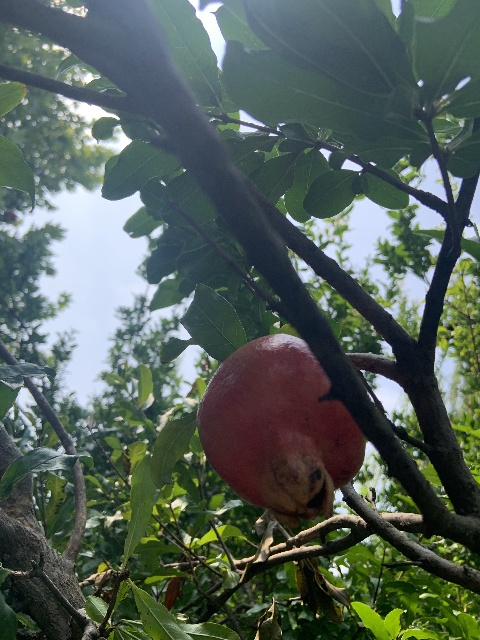ripe: (196, 335, 366, 529)
